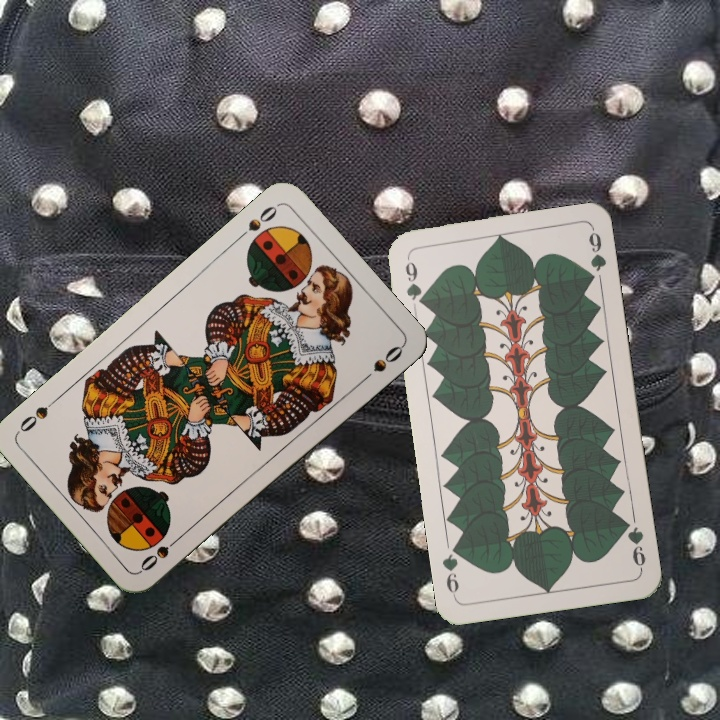G9: (618, 515, 648, 573), (401, 253, 428, 309)
SO: (136, 530, 185, 574), (233, 200, 282, 243)
